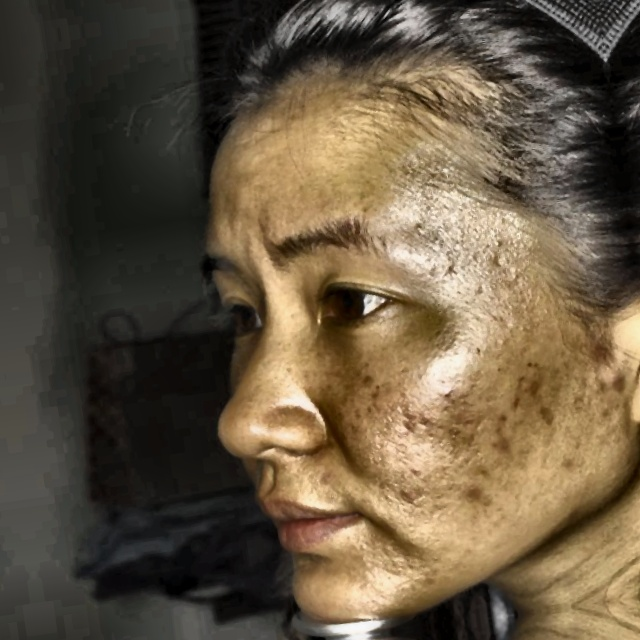comedone: (602, 361, 631, 402), (587, 332, 622, 362), (489, 430, 512, 458), (398, 481, 420, 505), (463, 474, 481, 499)
